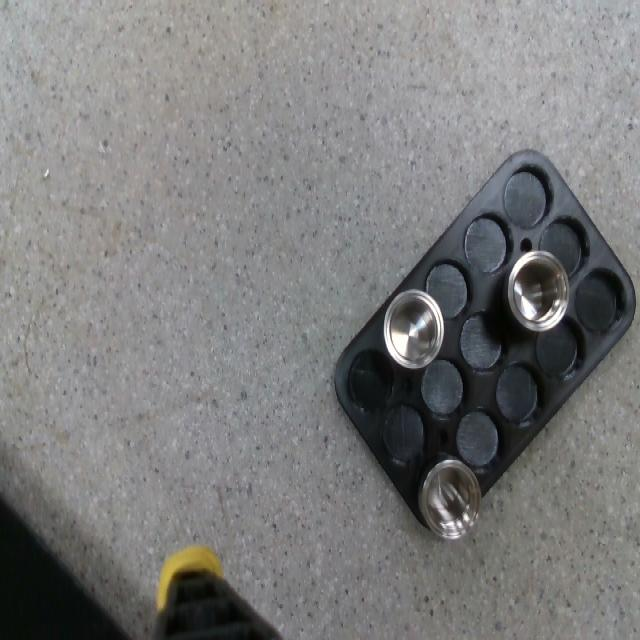sensor: (506, 250, 569, 330), (419, 460, 481, 539), (384, 290, 444, 369)
